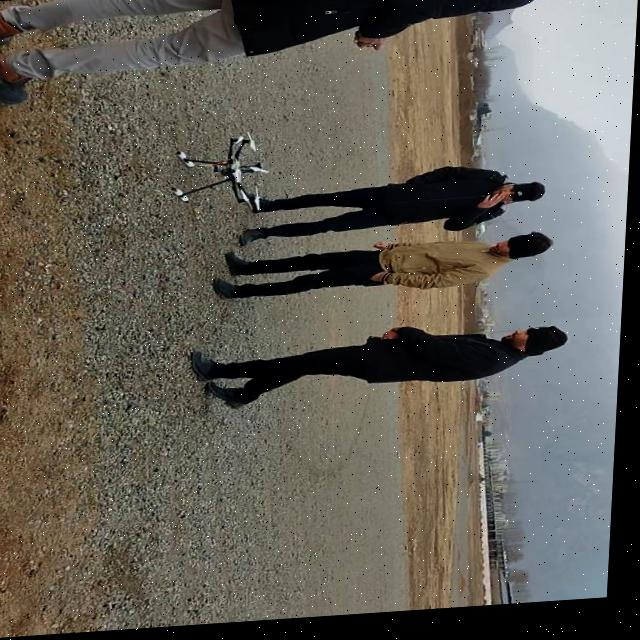drone: (175, 133, 274, 219)
